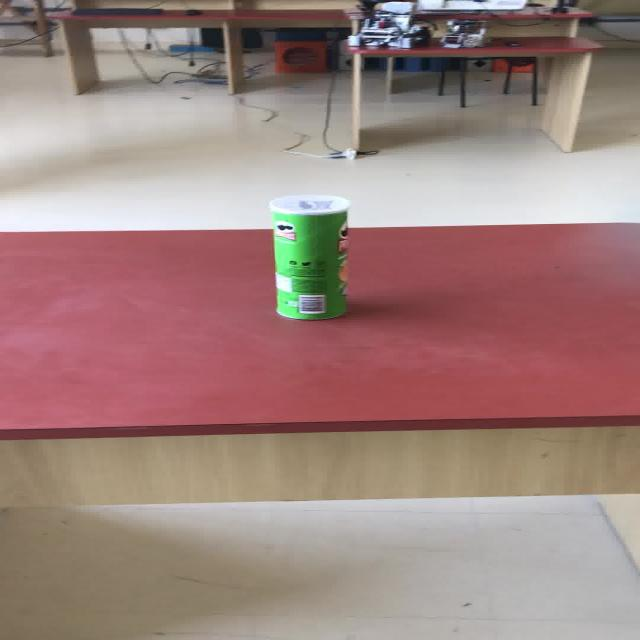pringles: (267, 193, 350, 320)
